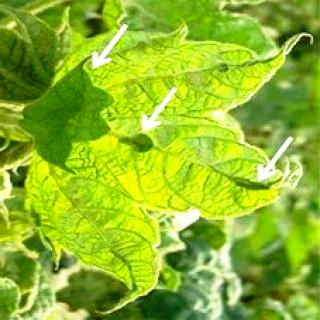curl: (28, 59, 108, 167), (121, 112, 159, 166), (225, 164, 277, 202)
